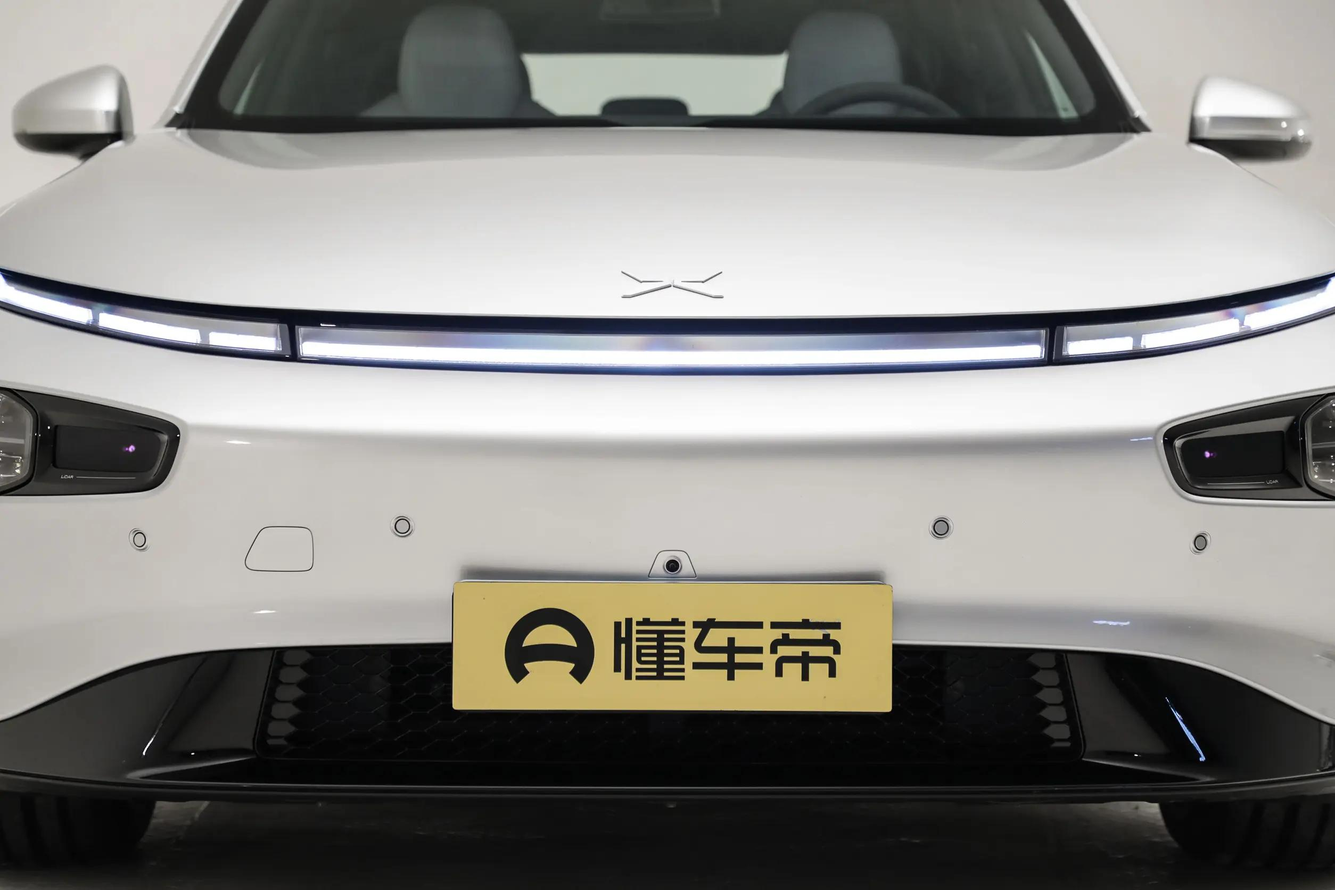XPeng Motors: (621, 268, 724, 298)
